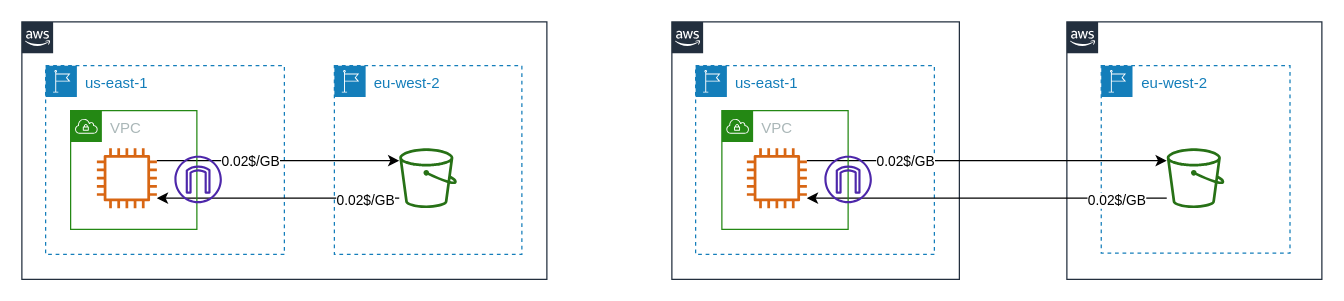
The diagram is 1344 pixels wide and 301 high, and some of its shapes have lost their labels. Here are the shapes that lost their labels. From the top down, the box of each, then its label:
(21, 21, 547, 279): AWS Cloud
(671, 21, 959, 279): AWS Account-1
(1066, 21, 1322, 279): AWS Account-2
